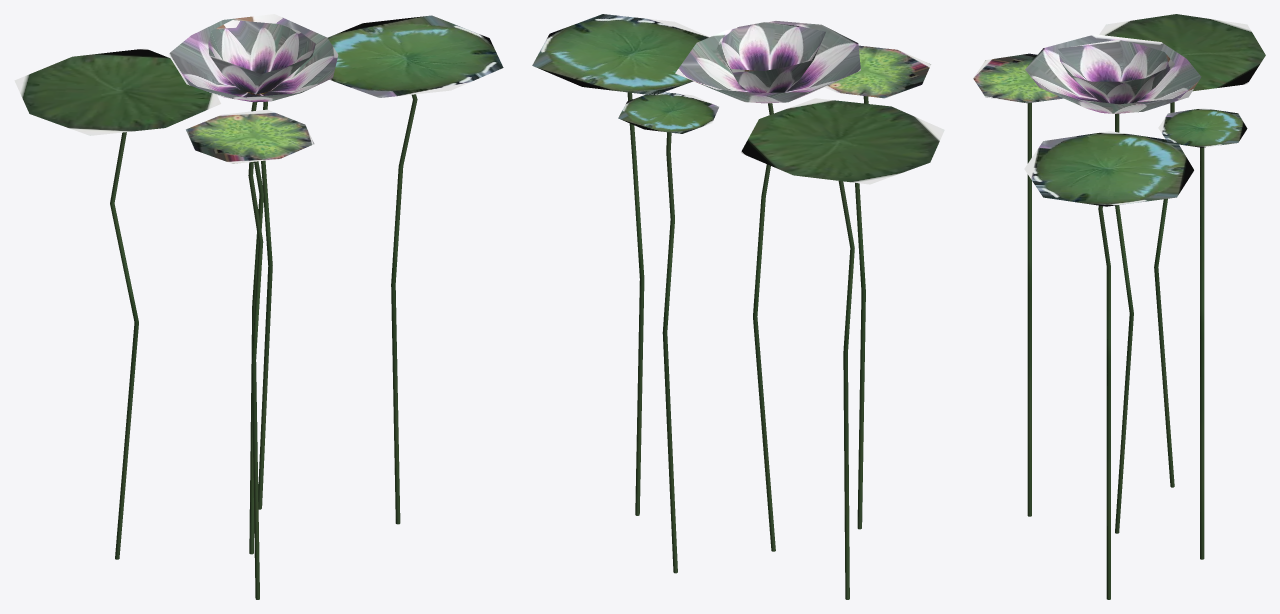
Rendered from 6417c639-ee8d-423c-a775-49d5e6eafc04-water-lily.glb.
3 renders of one model, left to right at view 1: azimuth 30°, elevation 25°; view 2: azimuth 150°, elevation 25°; view 3: azimuth 270°, elevation 25°, orthographic. The views are drawn at different scales.
Visible parts, largest first — view 1: Cylinder.003, Cylinder.002, Plane, Plane.005, Cylinder.001; view 2: Cylinder.003, Plane, Cylinder.002, Cylinder.001, Plane.005; view 3: Cylinder.002, Plane, Cylinder.003, Cylinder.001, Plane.005.
Part boxes in pixels (bbox=[...]): Cylinder.003: bbox=[14, 48, 220, 559]; Cylinder.002: bbox=[328, 15, 503, 524]; Plane: bbox=[168, 14, 338, 554]; Plane.005: bbox=[186, 109, 314, 599]; Cylinder.001: bbox=[258, 101, 272, 509]; Cylinder.003: bbox=[740, 98, 944, 599]; Plane: bbox=[675, 21, 860, 551]; Cylinder.002: bbox=[532, 14, 709, 515]; Cylinder.001: bbox=[618, 91, 718, 573]; Plane.005: bbox=[824, 45, 930, 529]; Cylinder.002: bbox=[1024, 131, 1194, 599]; Plane: bbox=[1025, 34, 1201, 533]; Cylinder.003: bbox=[1099, 14, 1265, 487]; Cylinder.001: bbox=[1158, 108, 1247, 559]; Plane.005: bbox=[973, 53, 1063, 516].
Bounding box in the file's own units: 15.95 × 18.36 × 10.24.
Materials: 1 (1 with a texture image).
